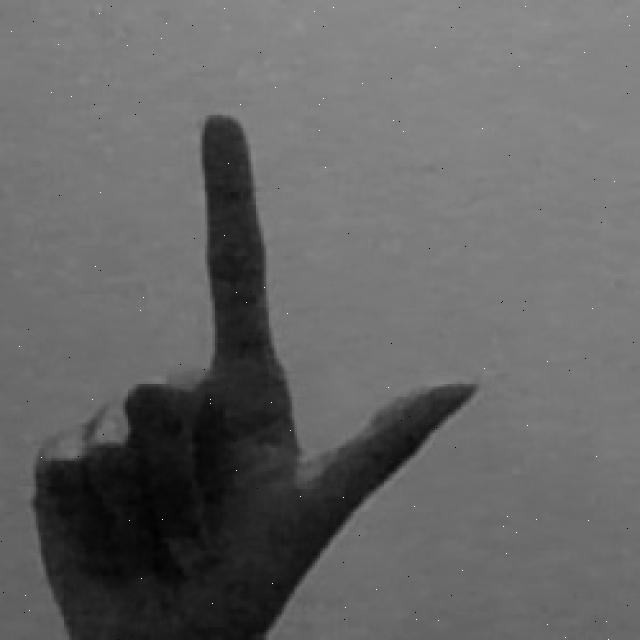L: (26, 104, 483, 640)
